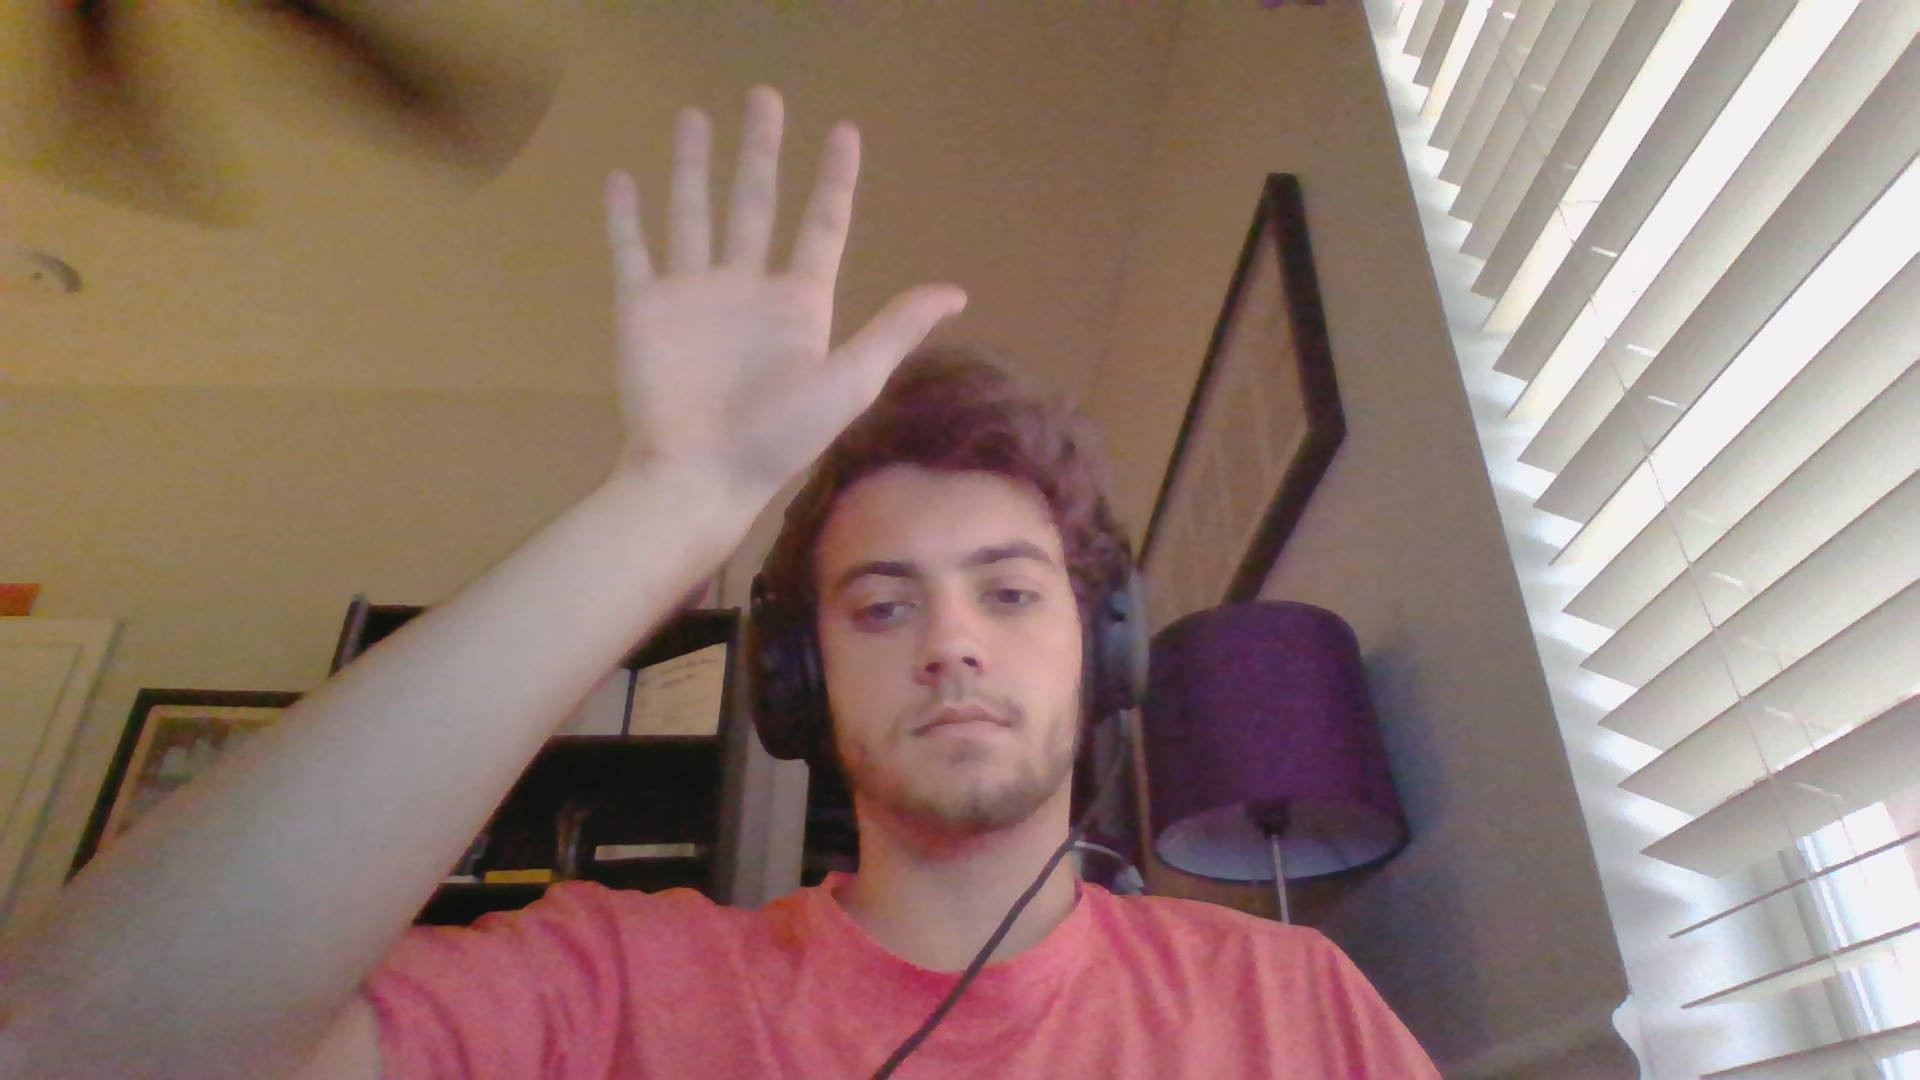Right Palm Up: (579, 79, 973, 492)
